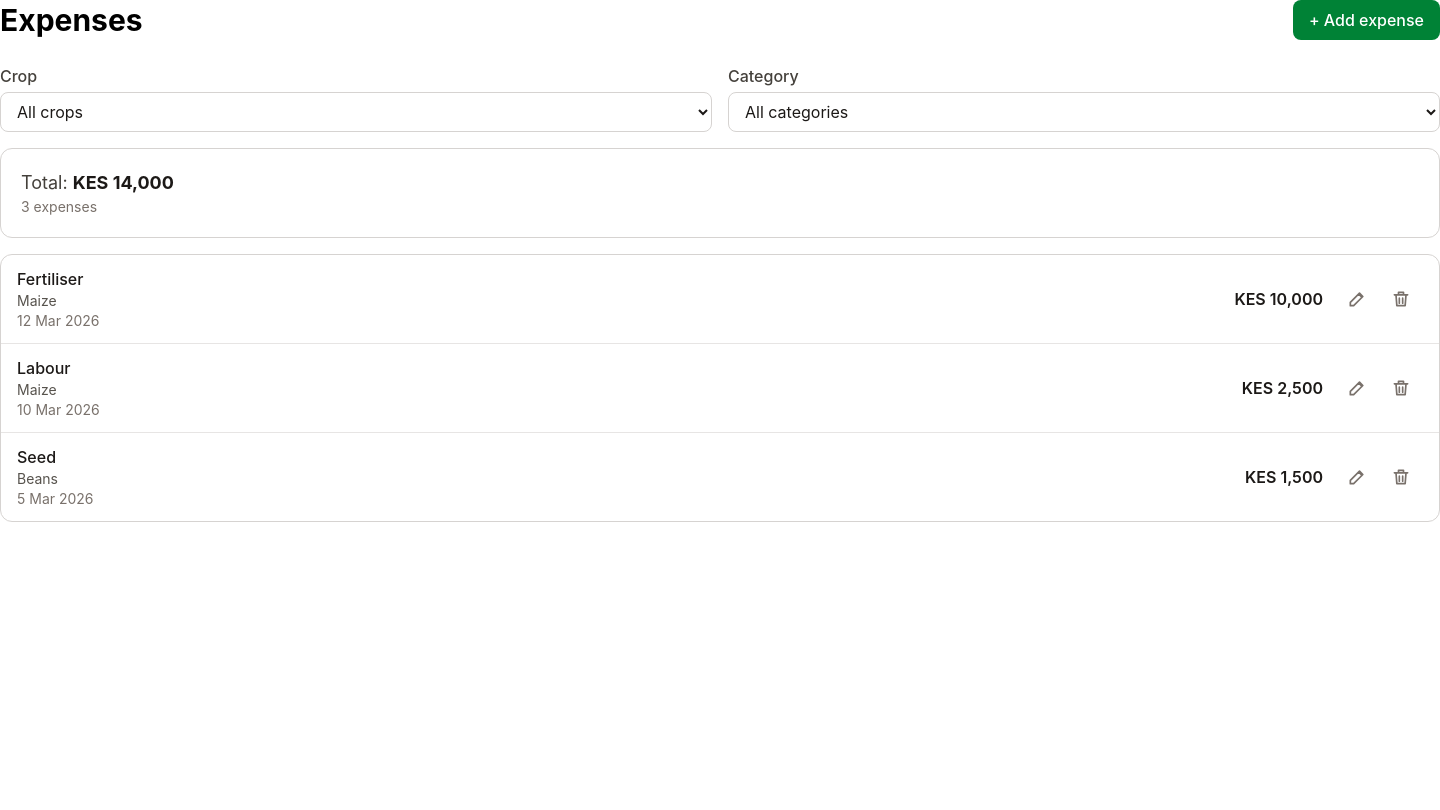
Test: Expenses page › adds an expense and closes the form straight away
This screenshot has width=1440, height=810.
Click the button "+ Add expense" at (1366, 20), box [1293, 0, 1439, 40]
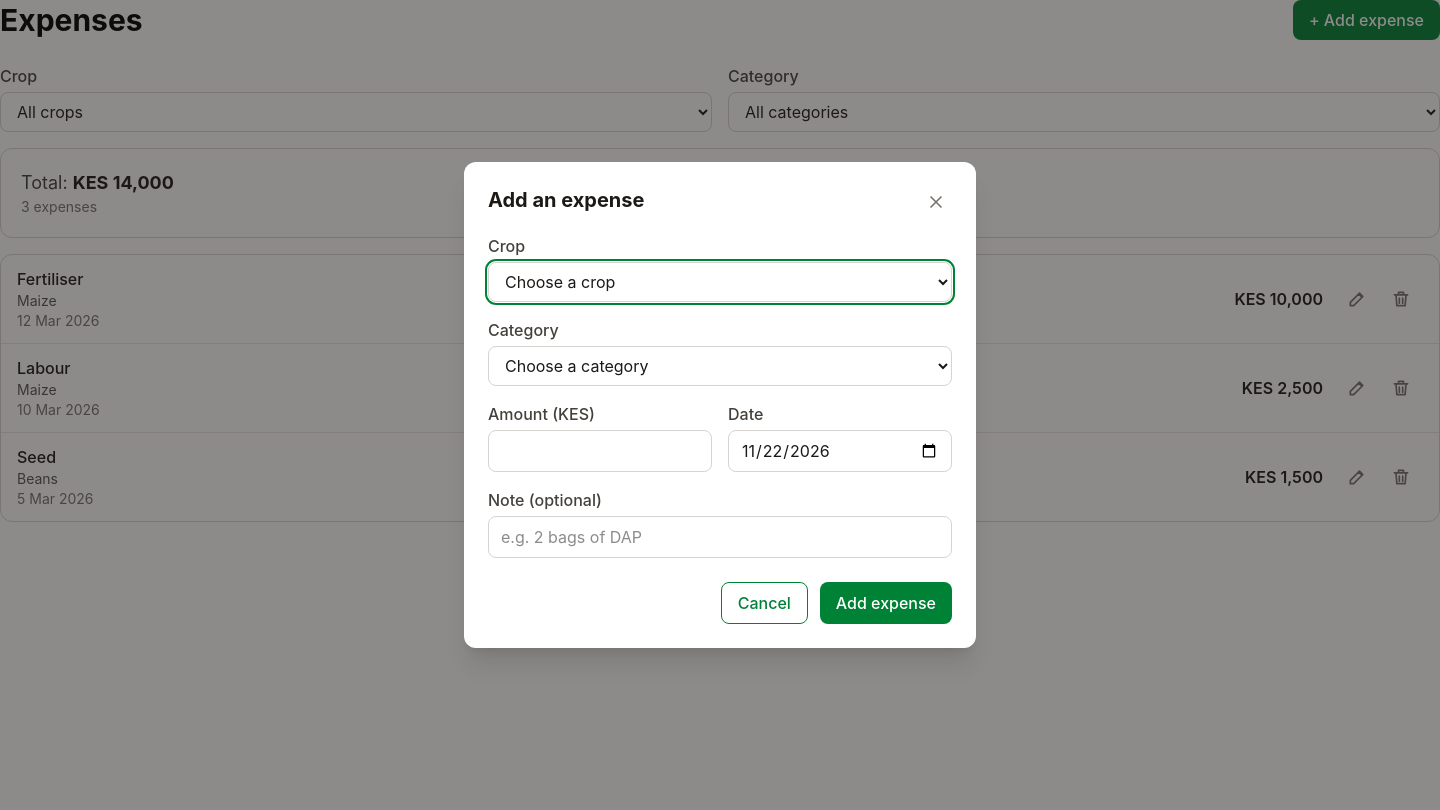
Select "Beans" in the dropdown labelled "Crop" at (720, 282), box [488, 262, 952, 302]
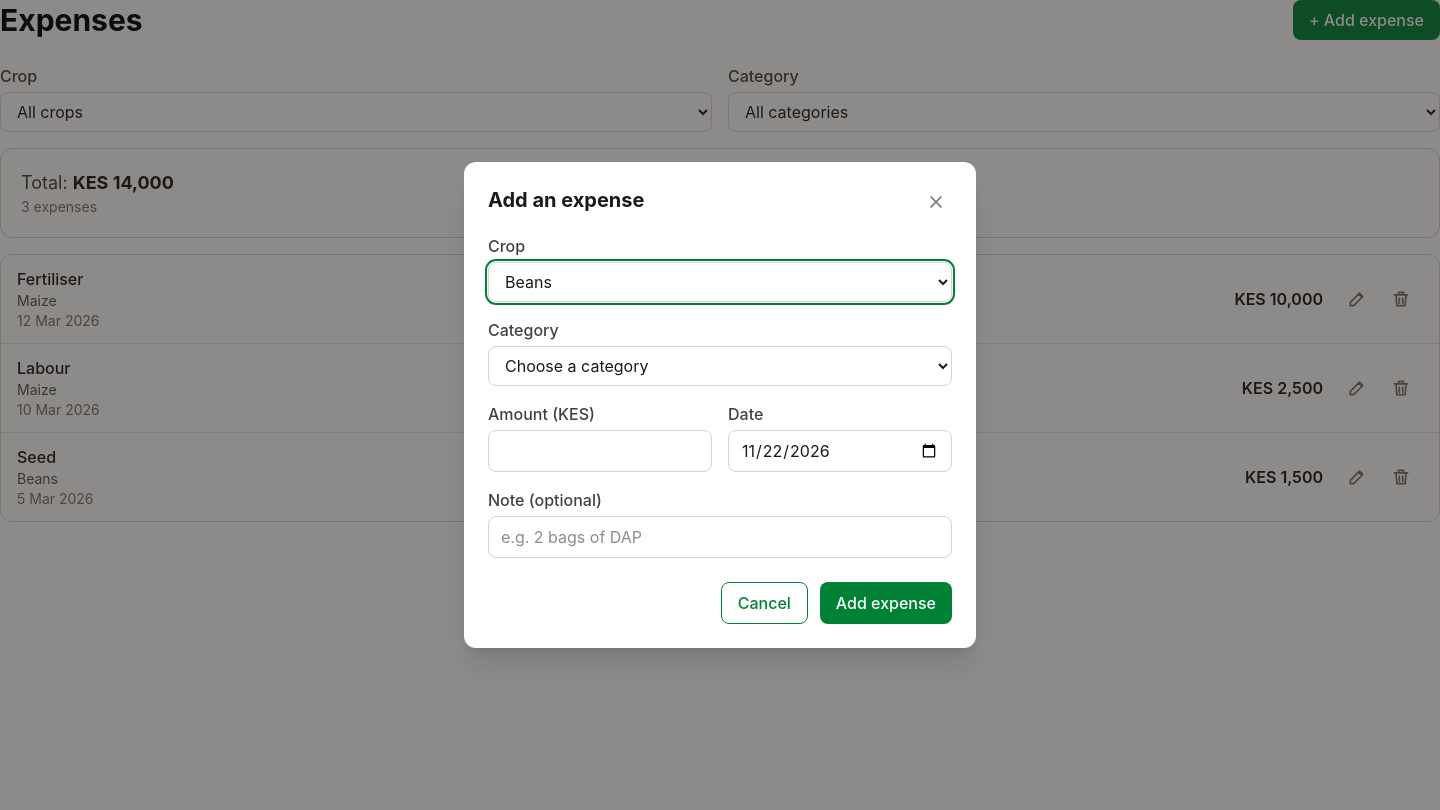
Select "Transport" in the dropdown labelled "Category" at (720, 366), box [488, 346, 952, 386]
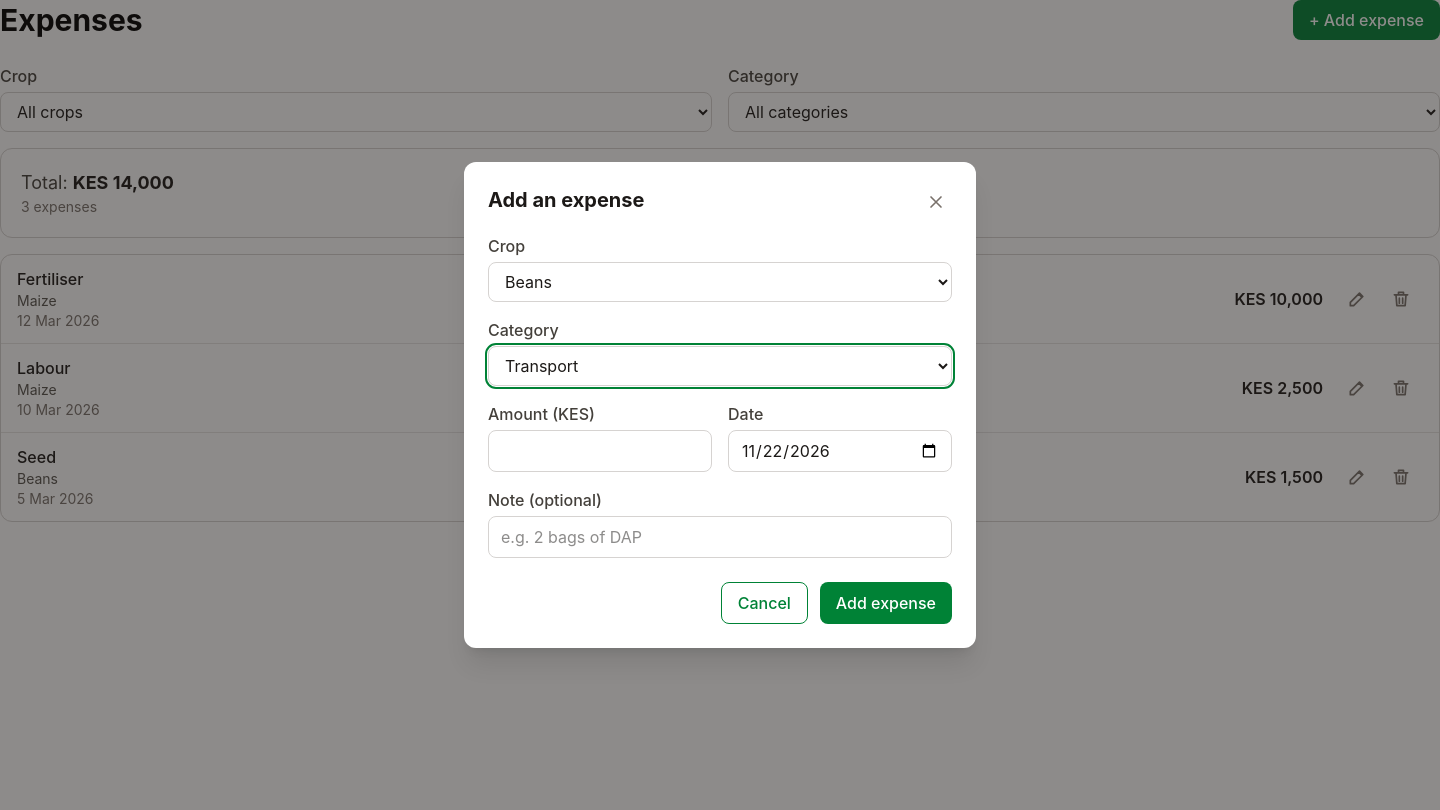
Type "600" into the number field labelled "Amount (KES)" at (600, 451), box [488, 430, 712, 472]
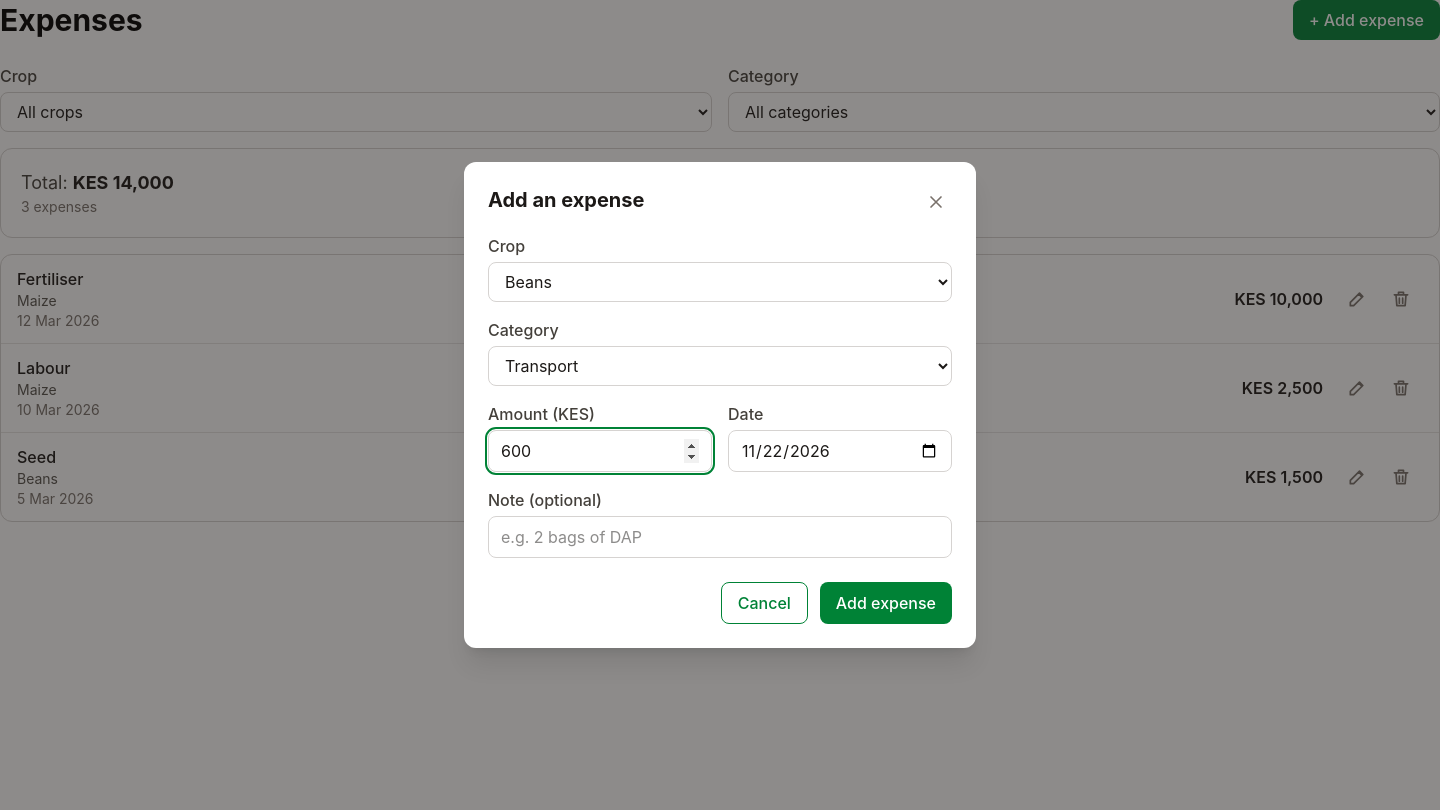
Click the button "Add expense" at (886, 603), box [820, 582, 952, 624]
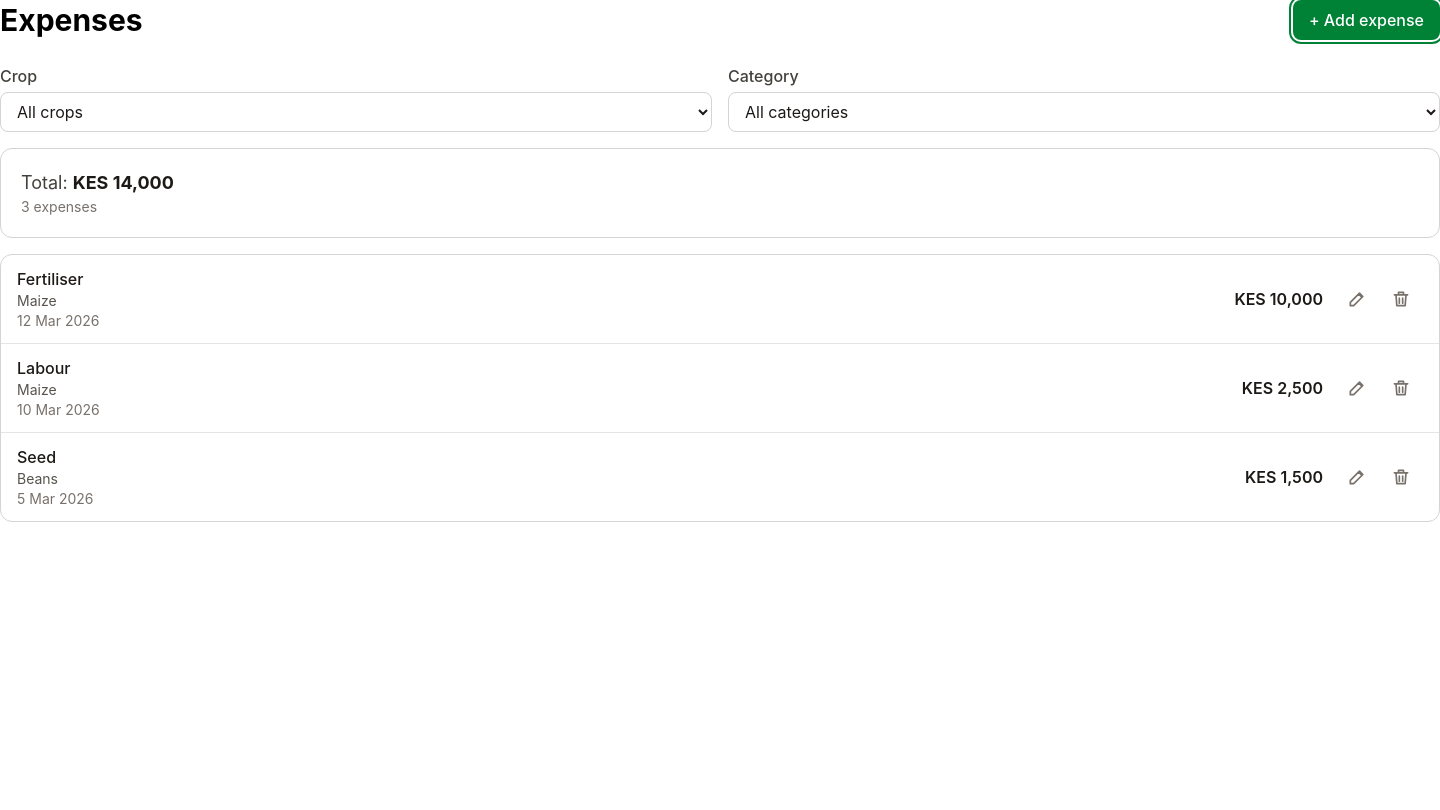
Expected: the dialog is gone
